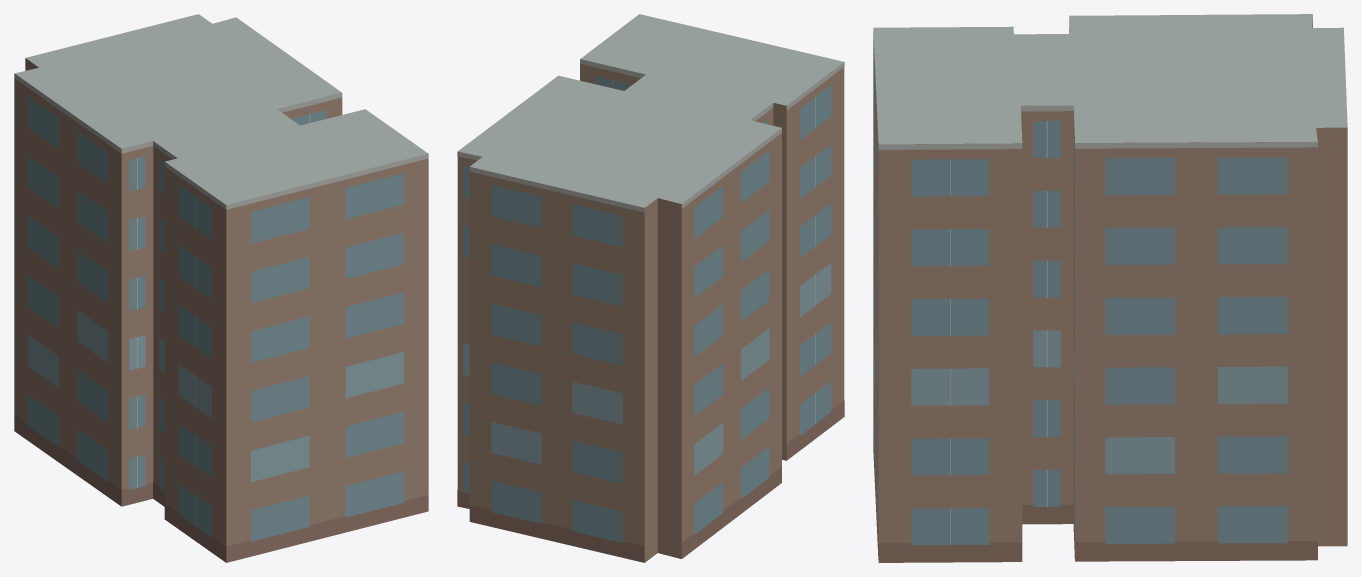
Rendered from survey-upis-32873803.glb.
3 views of the same model, side by side, from view 1: azimuth 30°, elevation 25°; view 2: azimuth 150°, elevation 25°; view 3: azimuth 270°, elevation 25° (orthographic). The views are drawn at different scales.
Visible parts, largest first — view 1: survey-upis-32873803.tmp; view 2: survey-upis-32873803.tmp; view 3: survey-upis-32873803.tmp.
Part boxes in pixels (x1=…): survey-upis-32873803.tmp: x1=14, y1=14, x2=428, y2=562; survey-upis-32873803.tmp: x1=457, y1=14, x2=844, y2=562; survey-upis-32873803.tmp: x1=873, y1=14, x2=1347, y2=562.
Bounding box in the file's own units: 12.13 × 18.15 × 18.66.
